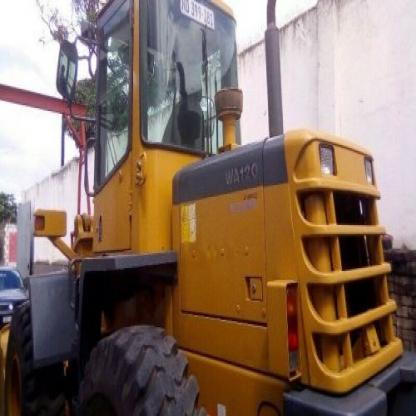bull_dozer/loader/grader: (7, 7, 408, 414)
